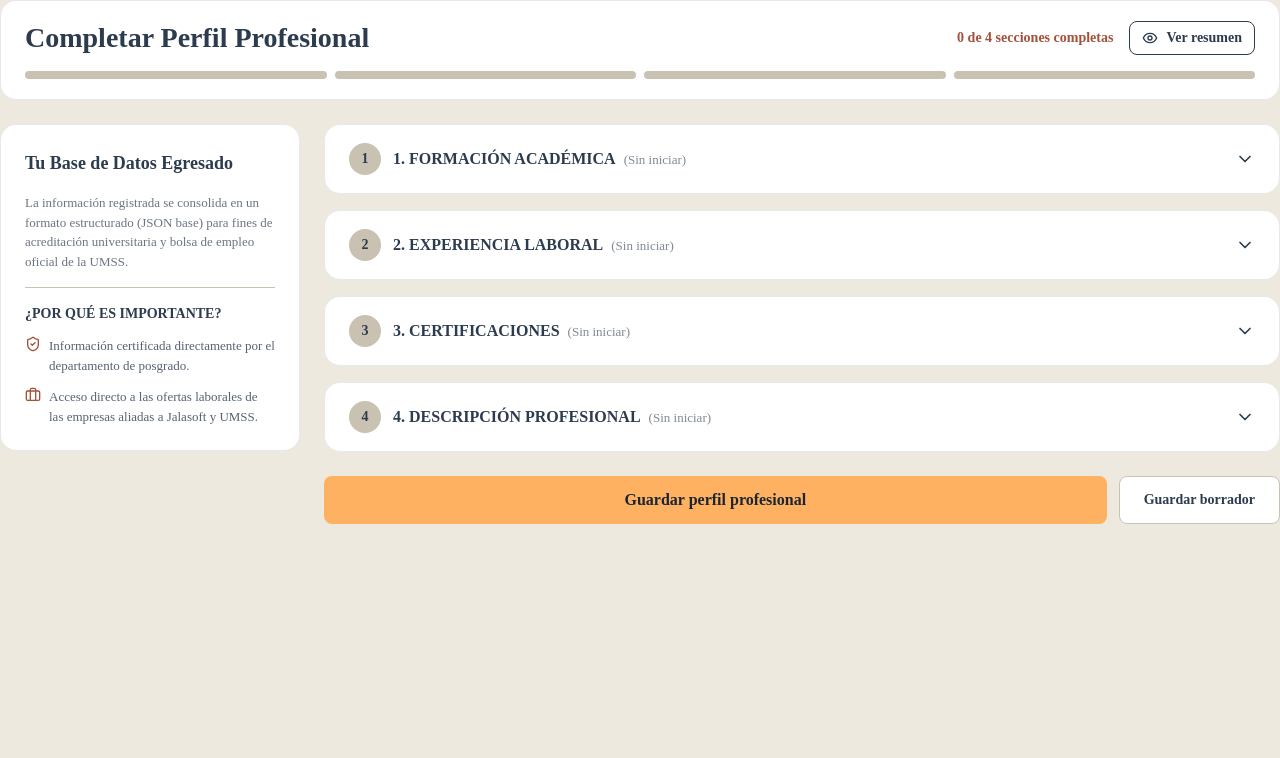
it: Completar perfil · guardar experiencia laboral en la API › 201: agrega la experiencia guardada sin enviar fechaFin y limpia el formulario
Click the button "2 2. Experiencia laboral (Sin iniciar)" at (365, 245), box [325,211,1279,279]
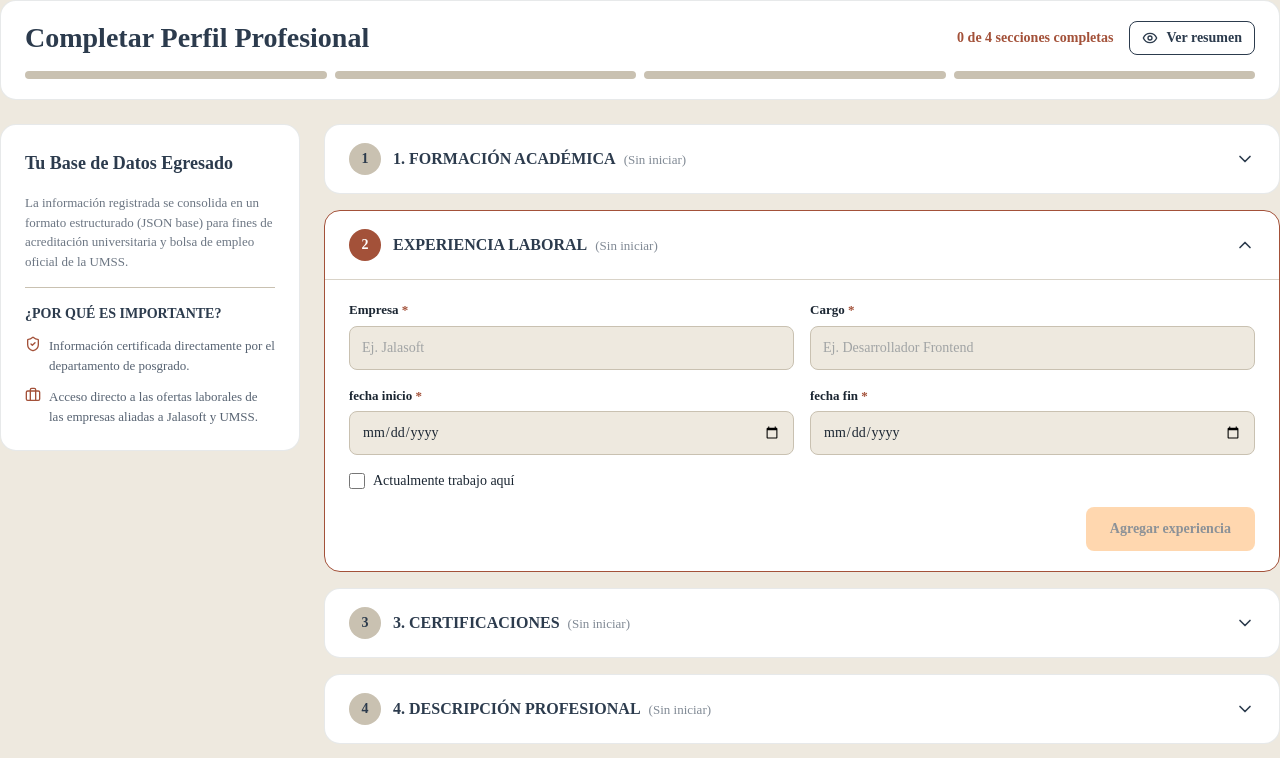
Type "Jalasoft" into the field with placeholder "Ej. Jalasoft" at (572, 348), box [349,326,794,370]
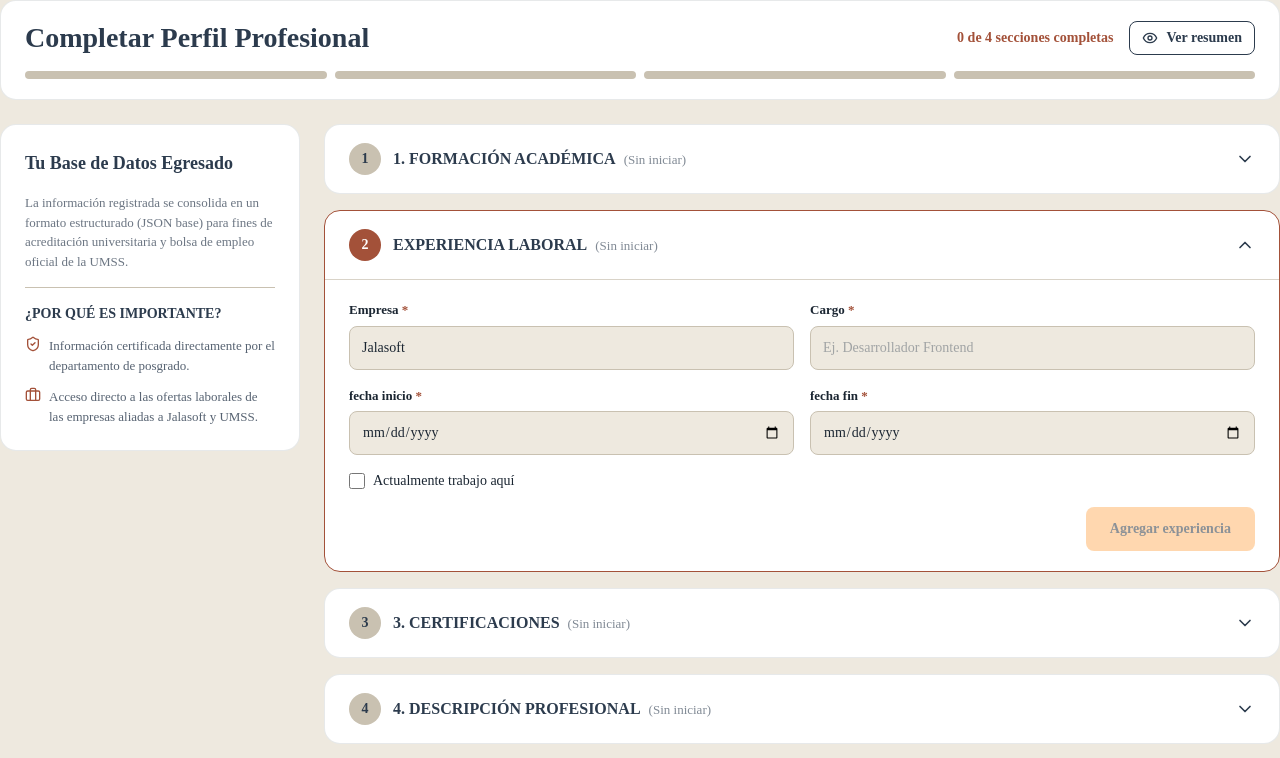
Type "Dev" into the field with placeholder "Ej. Desarrollador Frontend" at (1032, 348), box [810,326,1255,370]
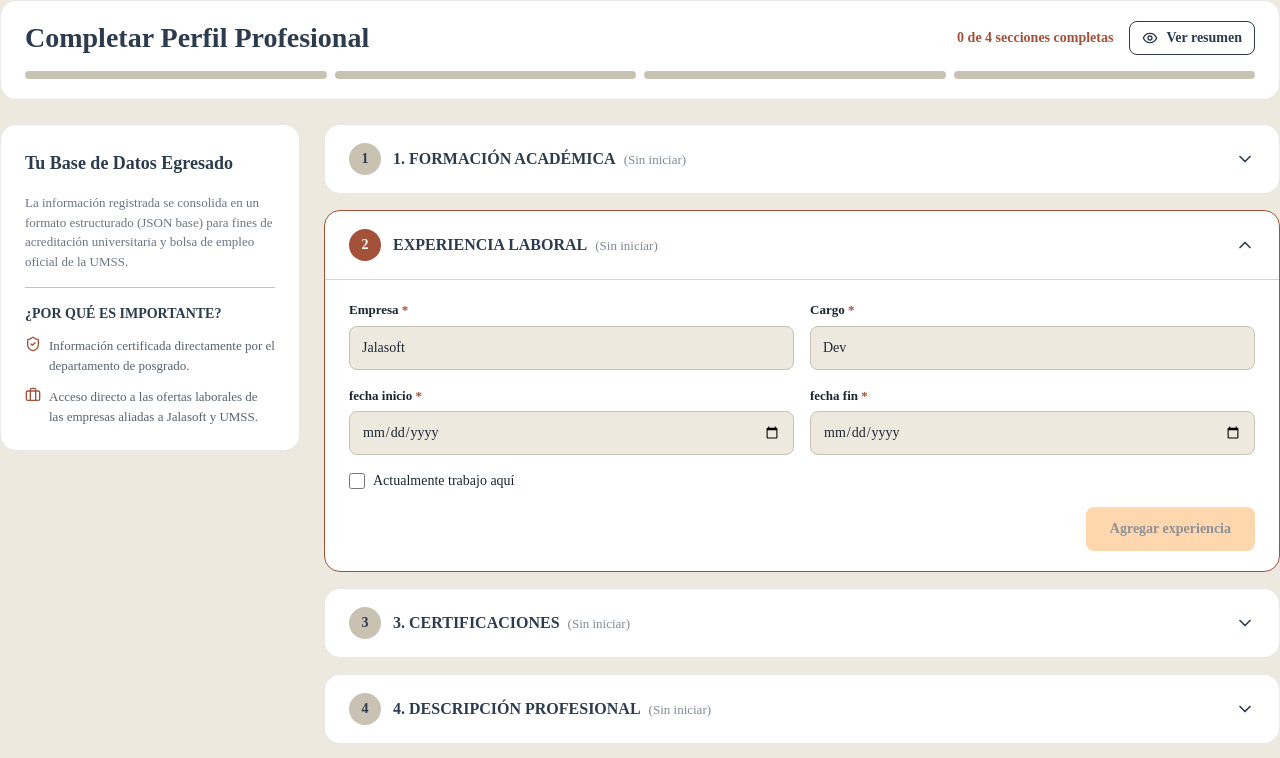
Type "2023-08-01" into the date field labelled "fecha inicio *" at (572, 433), box [349,411,794,455]
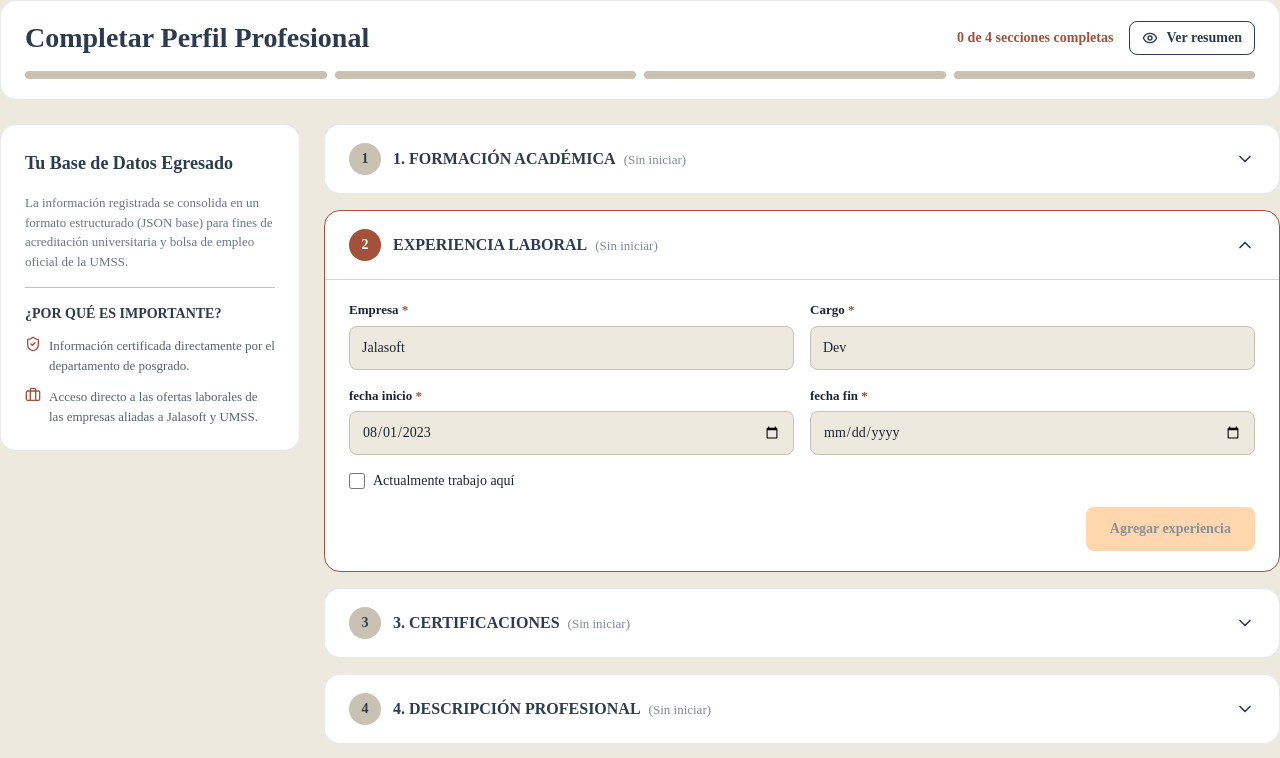
Click the checkbox labelled "Actualmente trabajo aquí" at (357, 481), box [349,473,365,489]
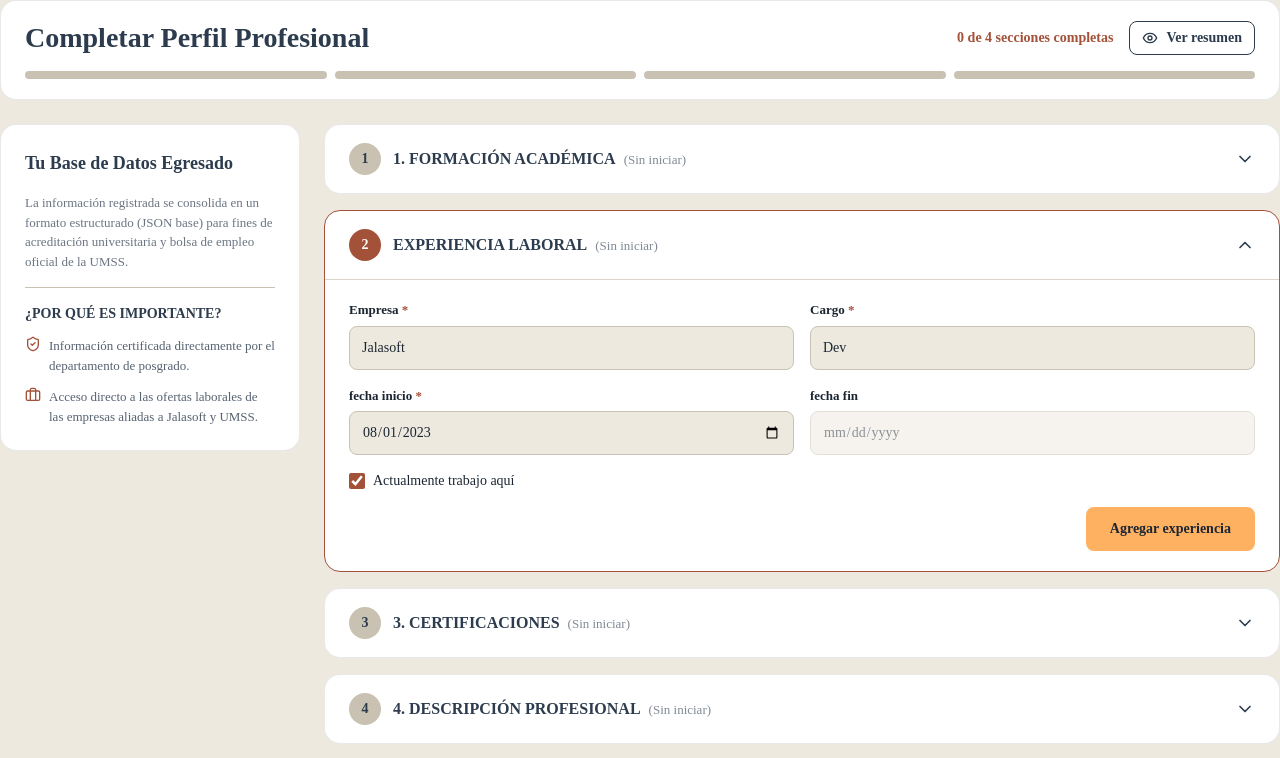
Click the button "Agregar experiencia" at (1170, 529), box [1086,507,1255,551]
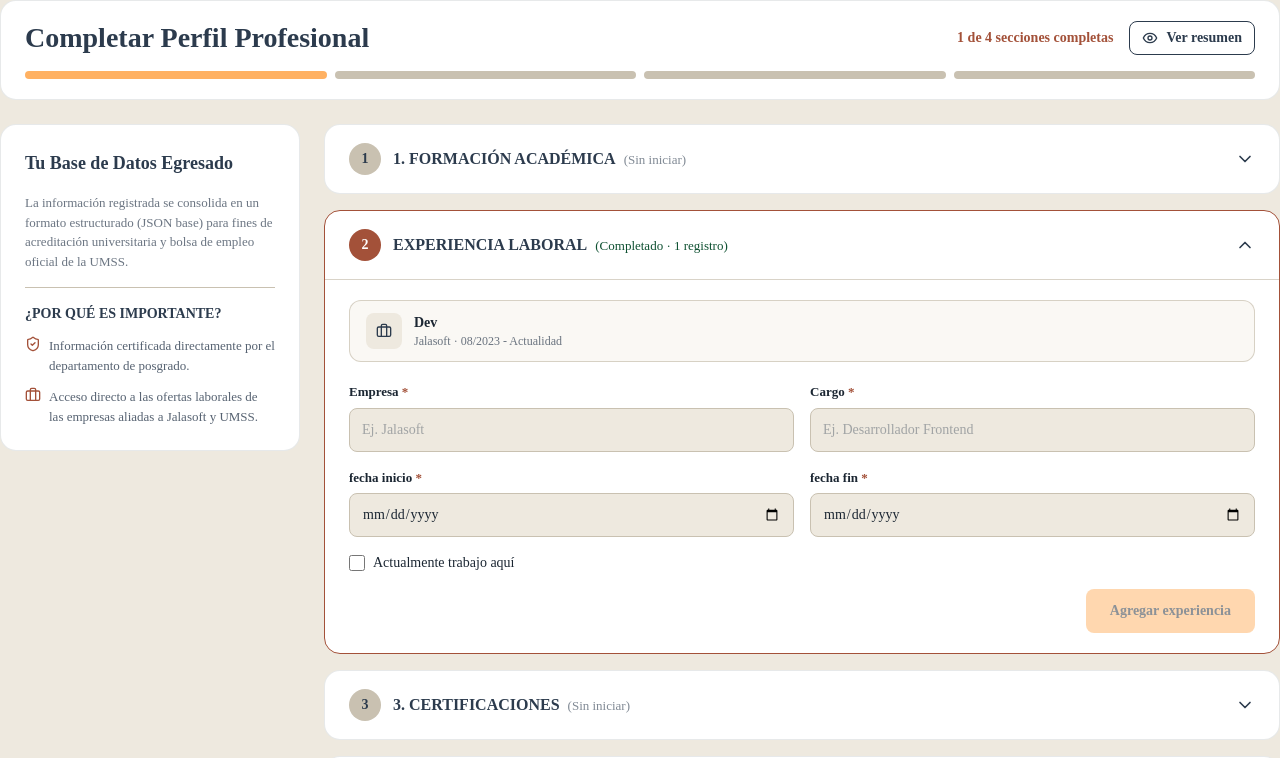
Result: the text "Dev" is shown at [414,315,437,330]
Result: the text "Jalasoft · 08/2023 - Actualidad" is shown at [414,333,562,349]
Result: the field with placeholder "Ej. Jalasoft" is empty at [349,408,794,452]
